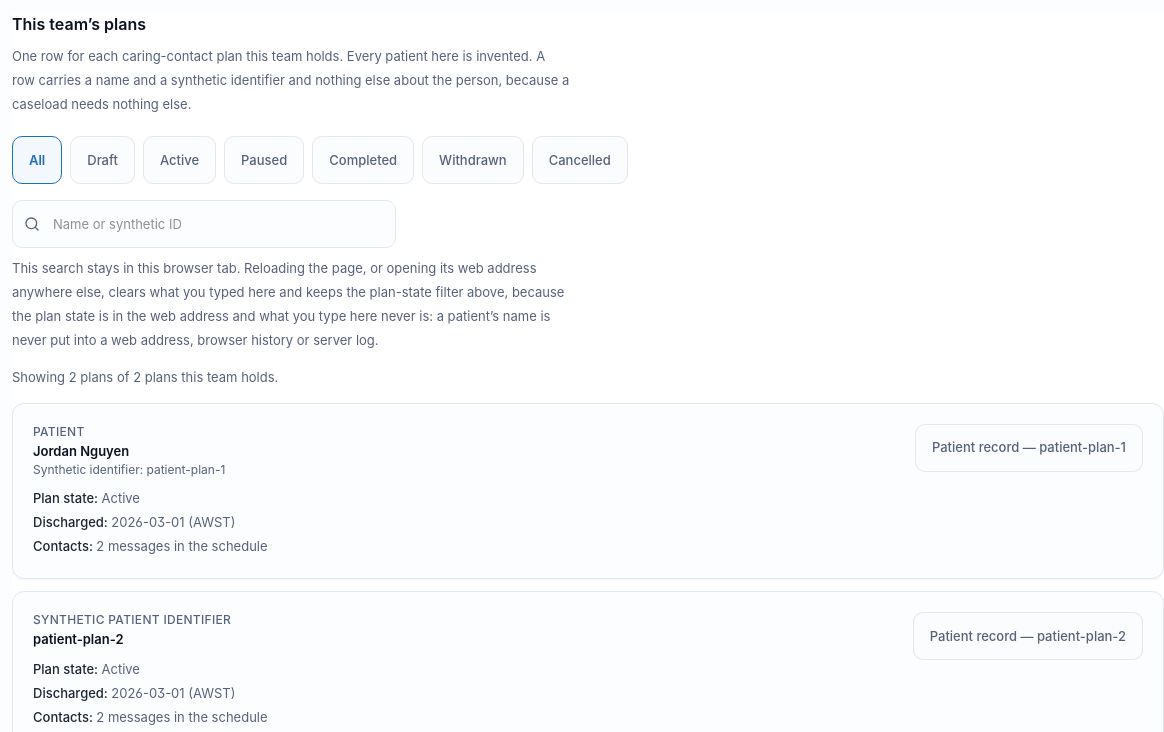
Test case: Patients directory - the names-only projection (Ruling 91) › clears the typed name from the control when the search is cleared
The image size is (1164, 732).
Step 1. Type "Jordan Nguyen" into the search field → (204, 224), box [12,200,396,248]
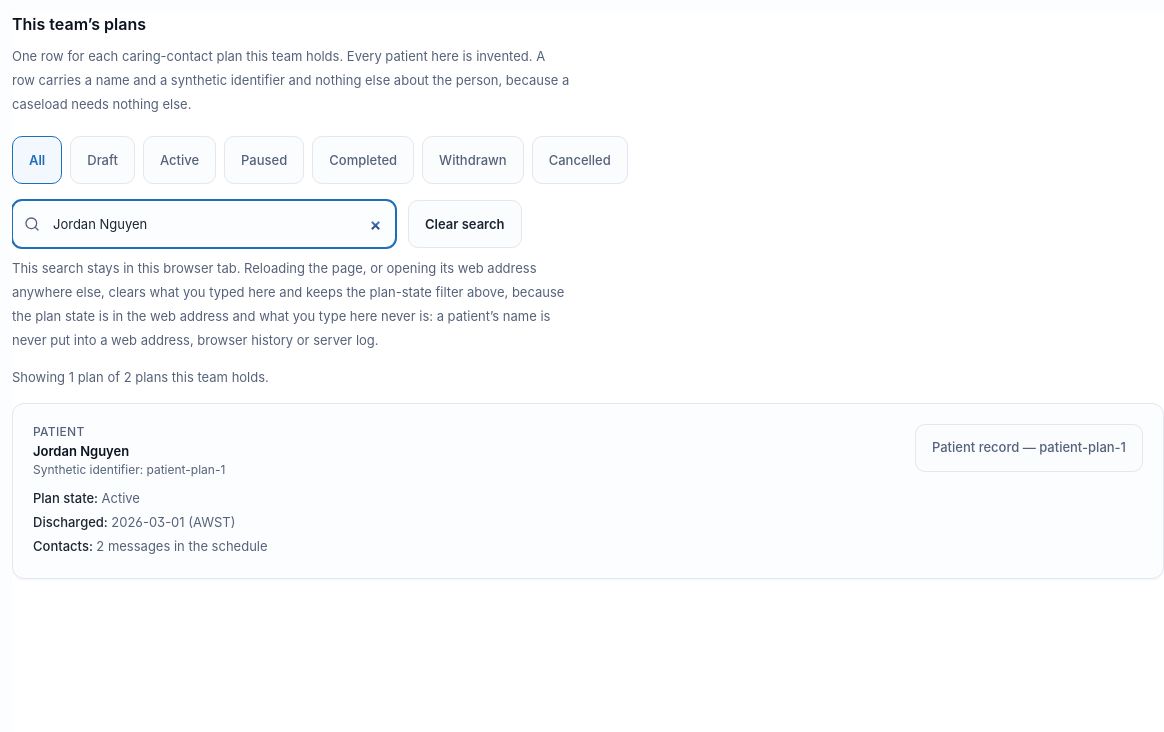
Expected: the number of list items is 1, [12,403,1163,579]
Step 2. Click the button "Clear search" → (465, 224), box [408,200,522,248]
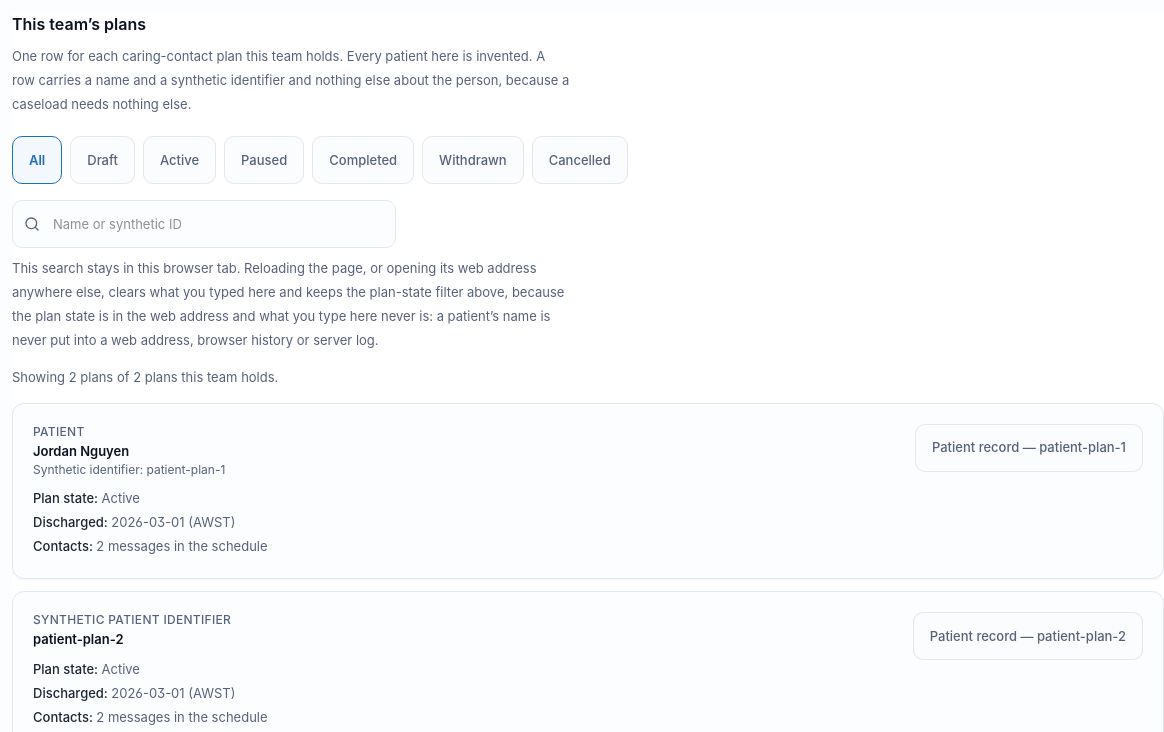
Expected: the search field is empty, [12,200,396,248]
Expected: the button "Clear search" is gone
